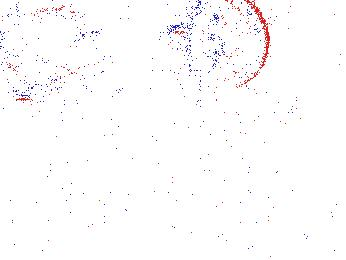moon jellyfish: (187, 1, 269, 91), (1, 1, 83, 90), (215, 85, 286, 164), (17, 9, 97, 69), (311, 63, 346, 148)
